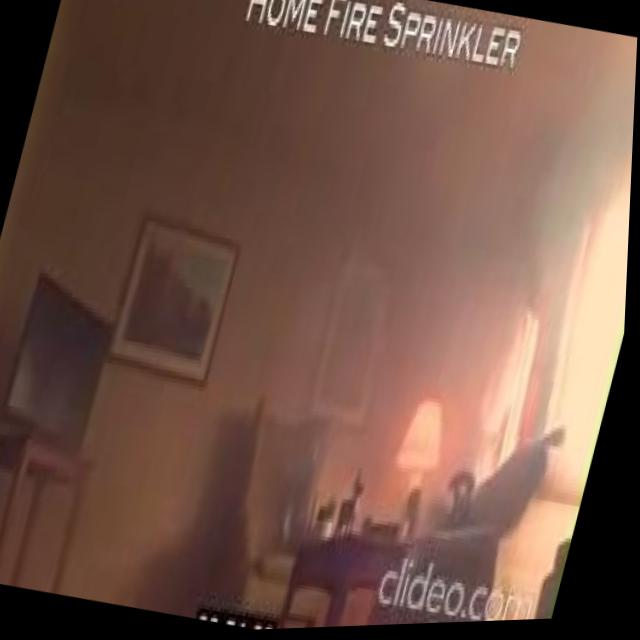fire: (471, 310, 551, 494)
